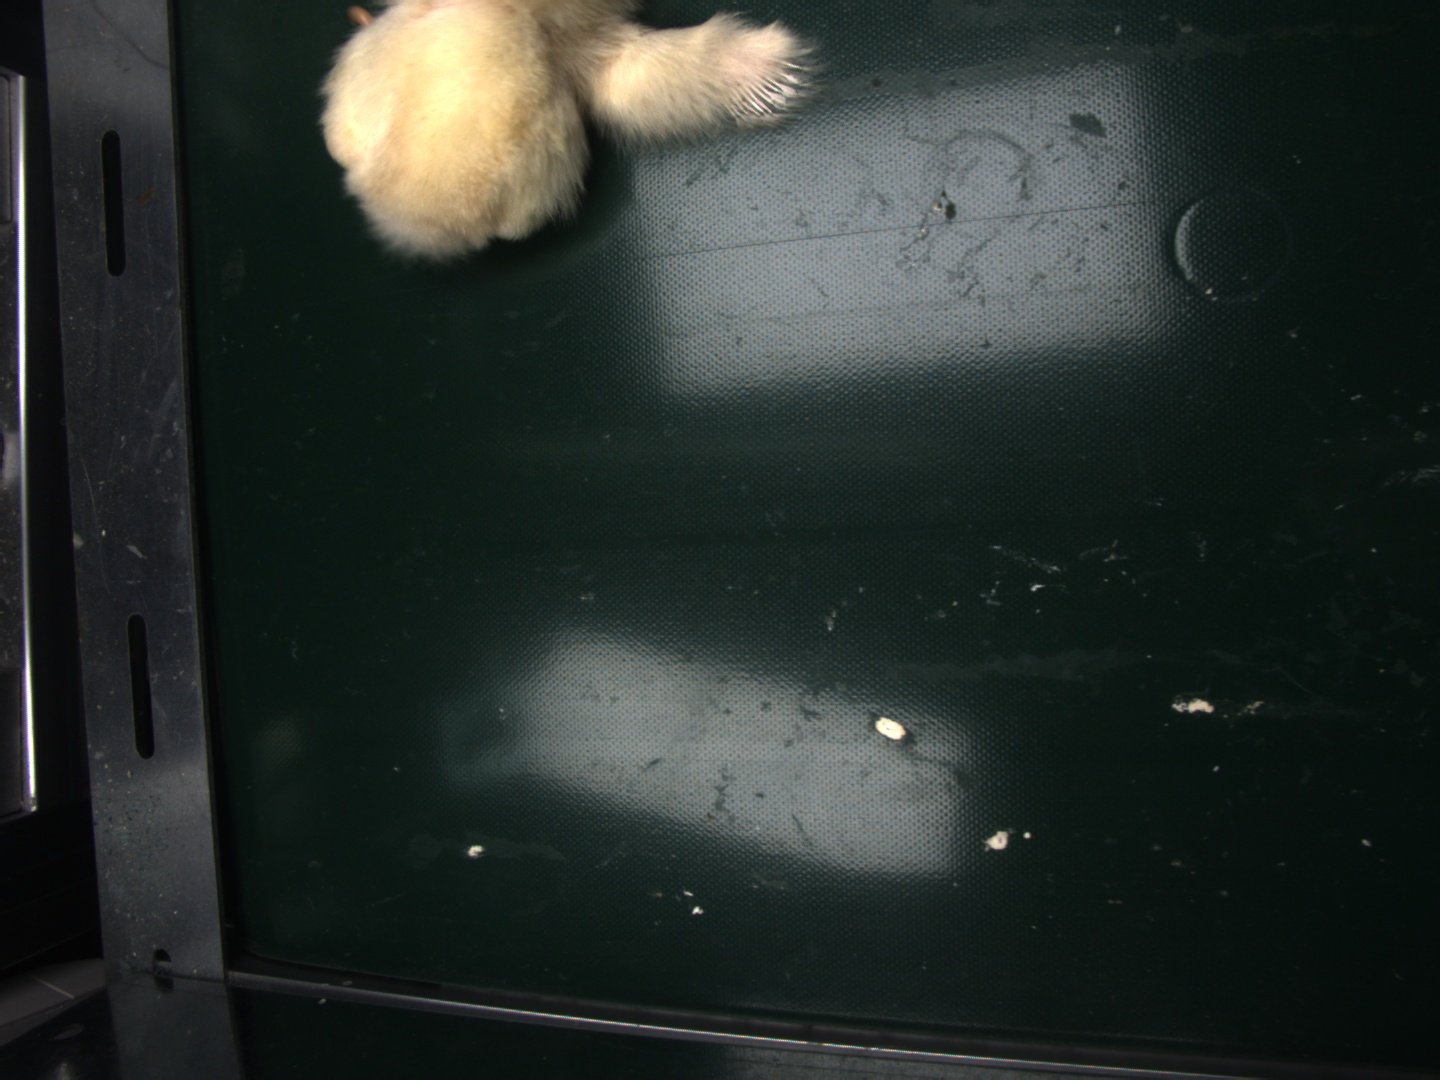male: (725, 59, 807, 123)
